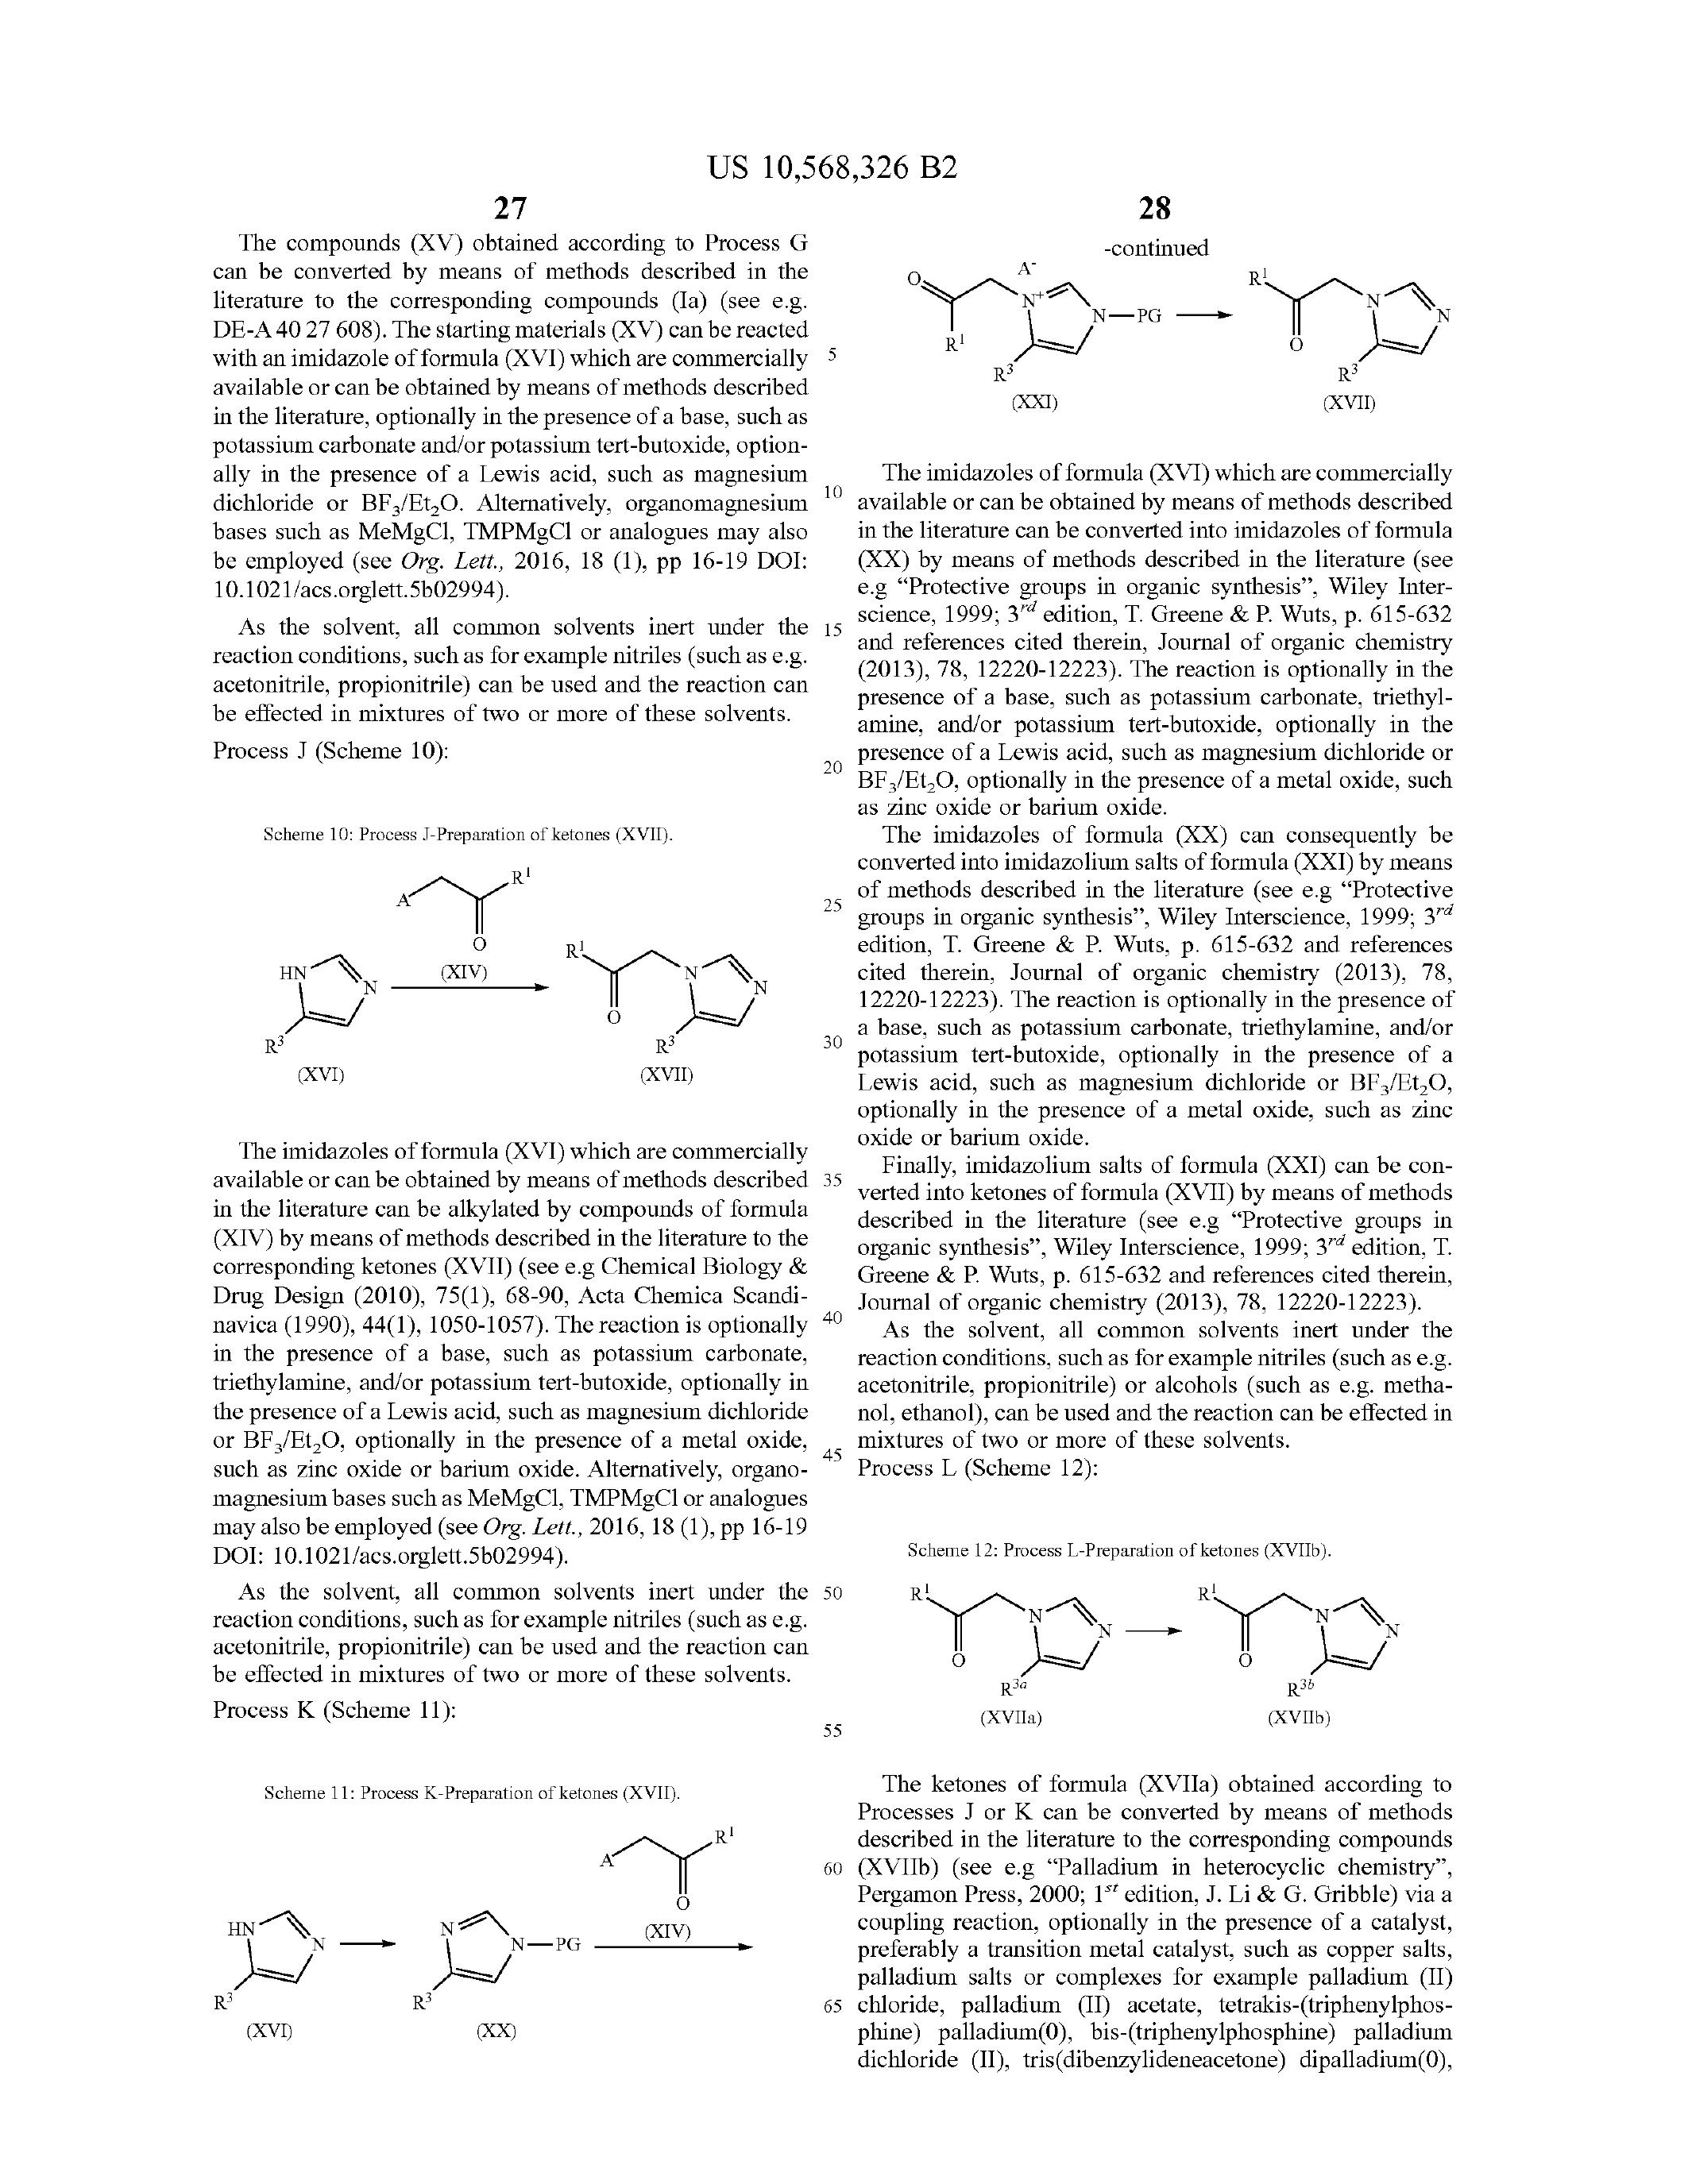reactions: (197, 1810, 793, 2118), (234, 805, 793, 1117), (881, 197, 1484, 434), (894, 1528, 1440, 1741)
